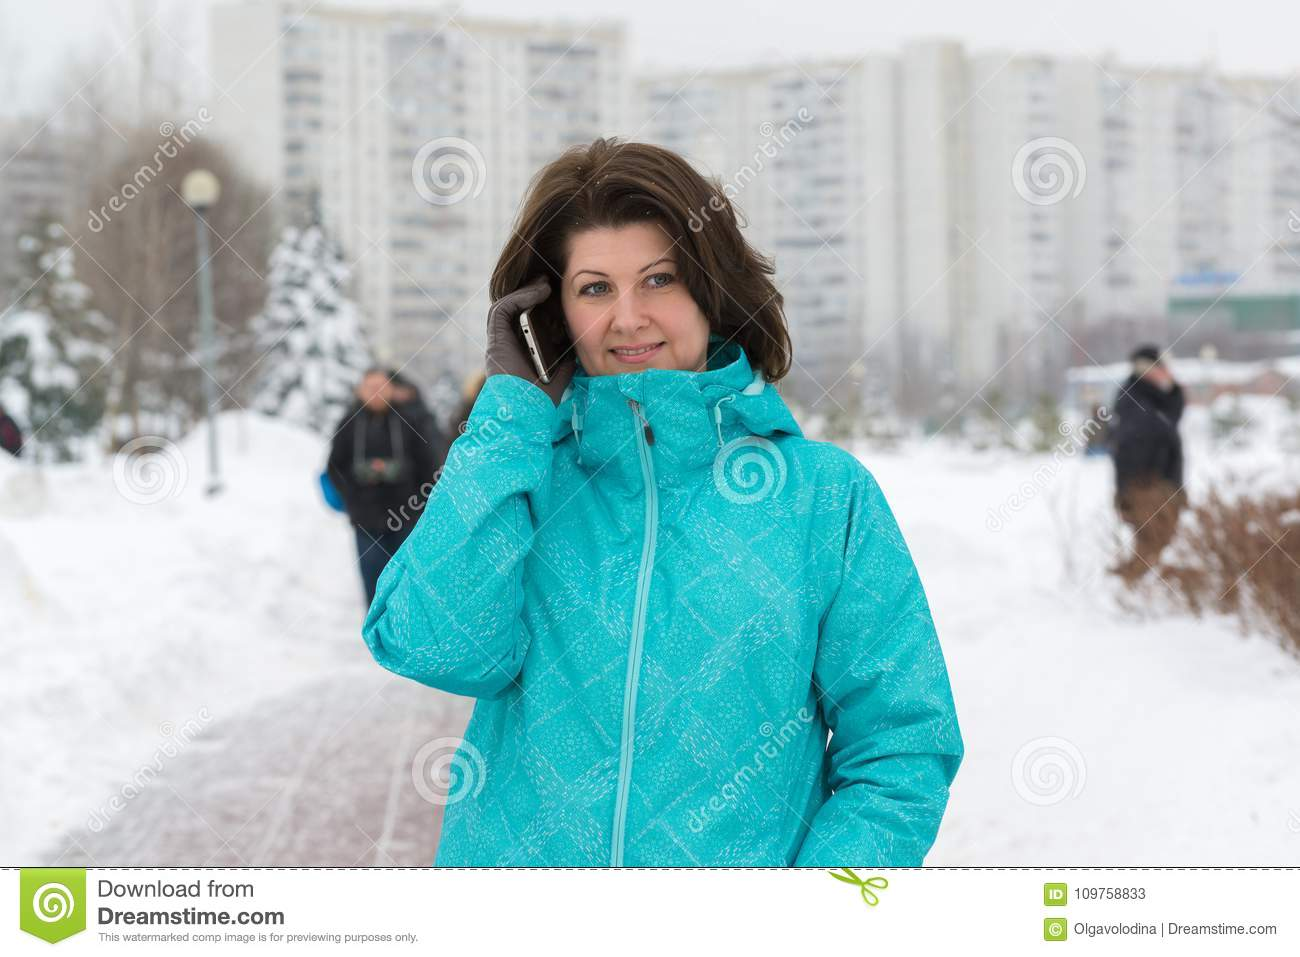phone: (519, 282, 571, 389)
talk: (484, 253, 696, 409)
